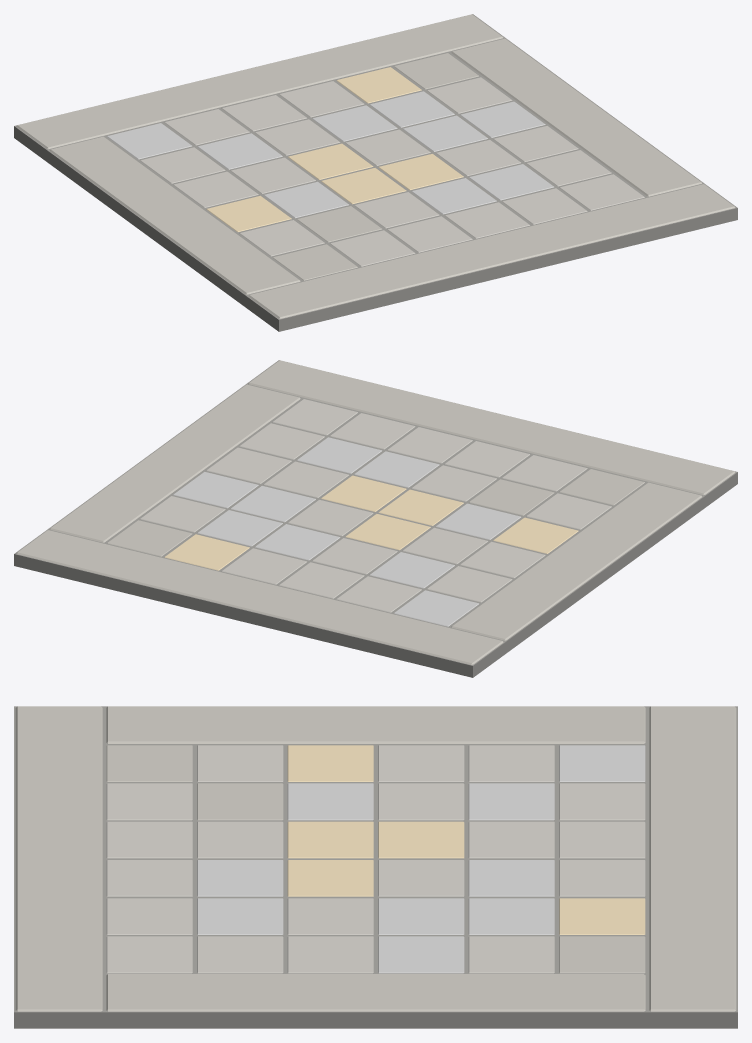
Rendered from env_plaza_ground_01.glb.
3 views of the same model, one above another, from view 1: azimuth 30°, elevation 25°; view 2: azimuth 150°, elevation 25°; view 3: azimuth 270°, elevation 25° (orthographic). The views are drawn at different scales.
Visible parts, largest first — view 1: env_plaza_ground_01_body; view 2: env_plaza_ground_01_body; view 3: env_plaza_ground_01_body.
Part boxes in pixels (x1,y1,x2,y2): env_plaza_ground_01_body: (14, 14, 737, 331); env_plaza_ground_01_body: (14, 360, 737, 677); env_plaza_ground_01_body: (14, 706, 737, 1028).
Bounding box in the file's own units: 4 × 0.11 × 4.
